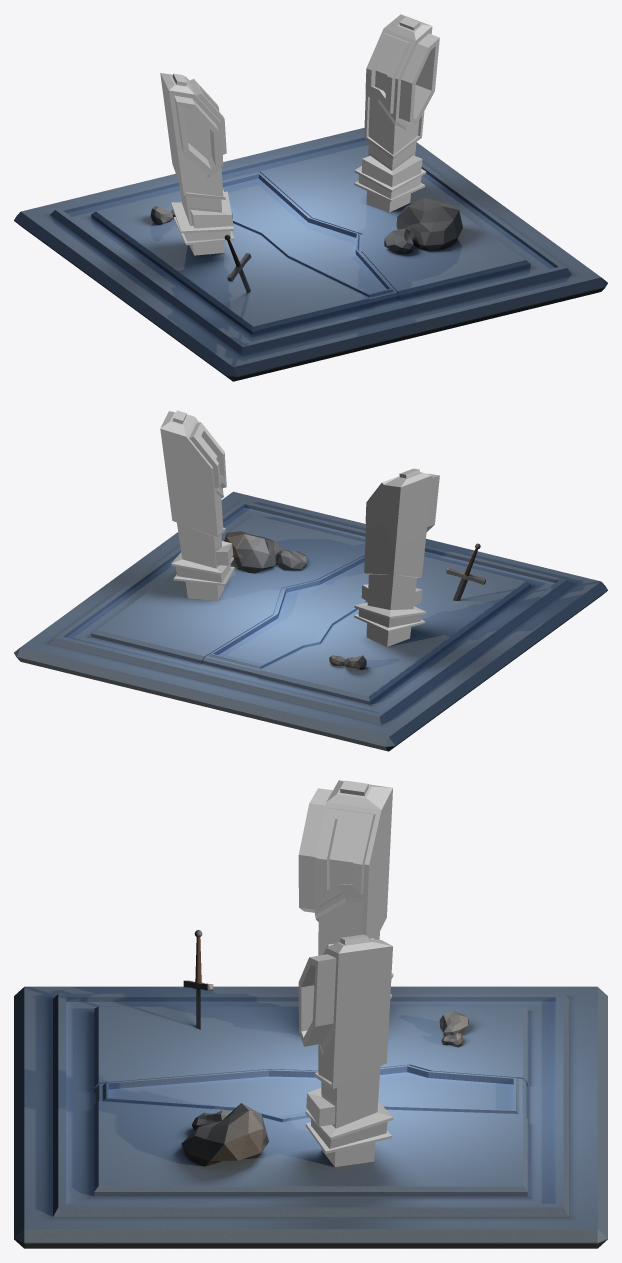
File: decor.gltf
The picture shows the model from 3 angles, top to bottom: view 1: azimuth 30°, elevation 25°; view 2: azimuth 150°, elevation 25°; view 3: azimuth 270°, elevation 25°; orthographic projection. The views are drawn at different scales.
Visible parts, largest first — view 1: floor, pillards, rocks; view 2: floor, pillards, rocks, sword; view 3: floor, pillards, rocks, sword.
Boxes of the visible parts, left/top/right/bottom form: floor: left=14, top=127, right=607, bottom=381; pillards: left=160, top=14, right=439, bottom=255; rocks: left=150, top=197, right=462, bottom=253; floor: left=14, top=491, right=607, bottom=751; pillards: left=160, top=410, right=439, bottom=646; rocks: left=224, top=531, right=366, bottom=669; sword: left=446, top=543, right=485, bottom=600; floor: left=14, top=986, right=607, bottom=1248; pillards: left=298, top=780, right=393, bottom=1166; rocks: left=181, top=1011, right=468, bottom=1166; sword: left=183, top=930, right=213, bottom=1029.
Bounding box in the file's own units: 23.94 × 12.16 × 23.94.
